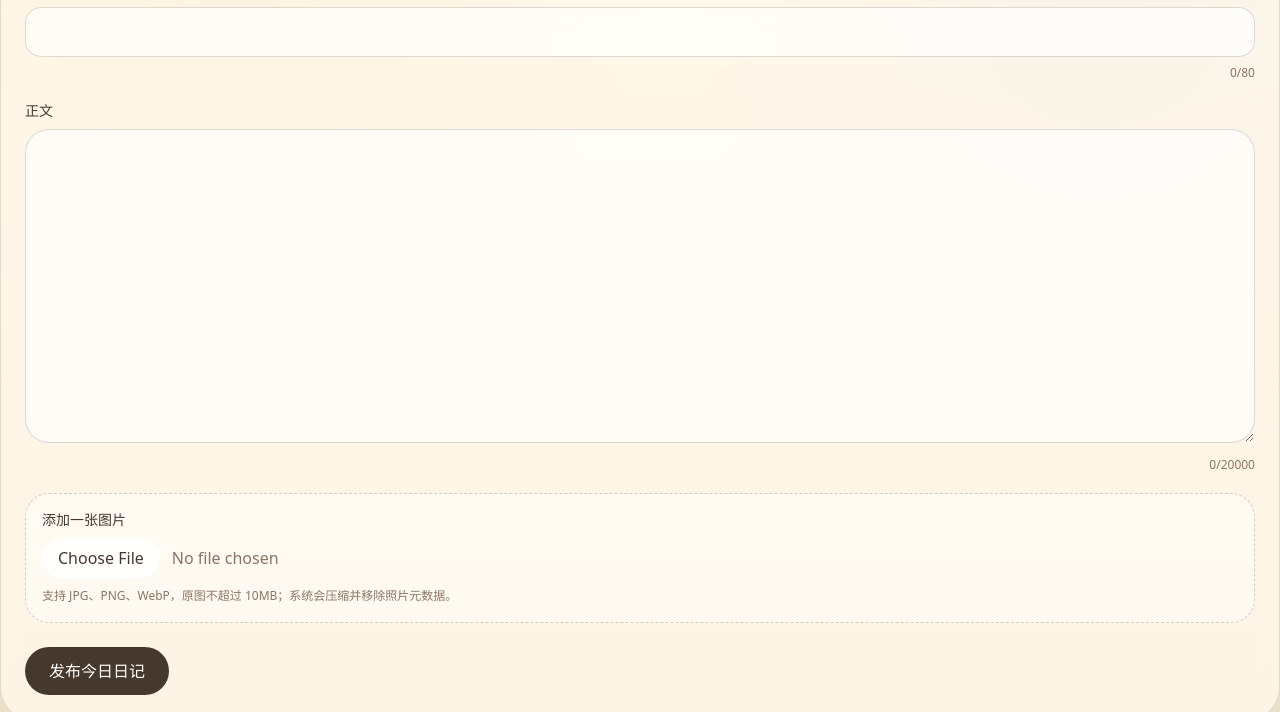
Test: TodayDiaryEditor › shows a validation message instead of submitting blank content
This screenshot has width=1280, height=712.
(page scrolled)
Click the button "发布今日日记". click: (97, 671)
box: [25,647,169,695]
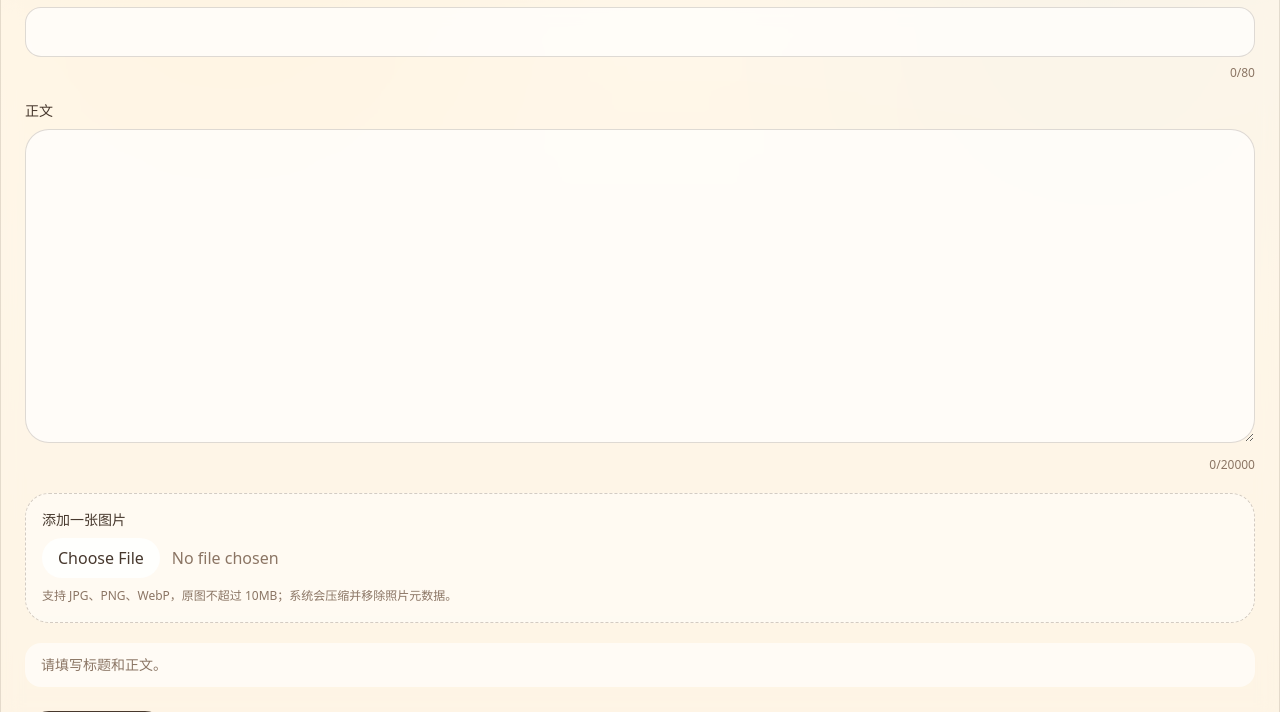
Now the message reads "请填写标题和正文。", box [41,655,167,674]
